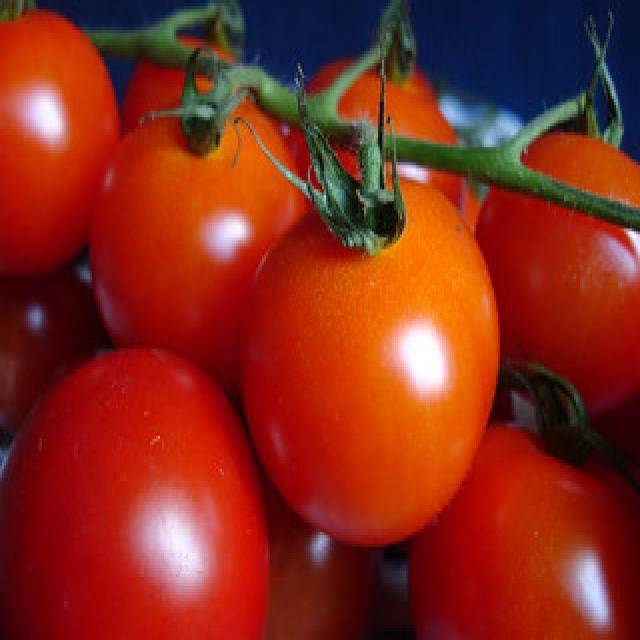kirmizi: (0, 344, 276, 640)
